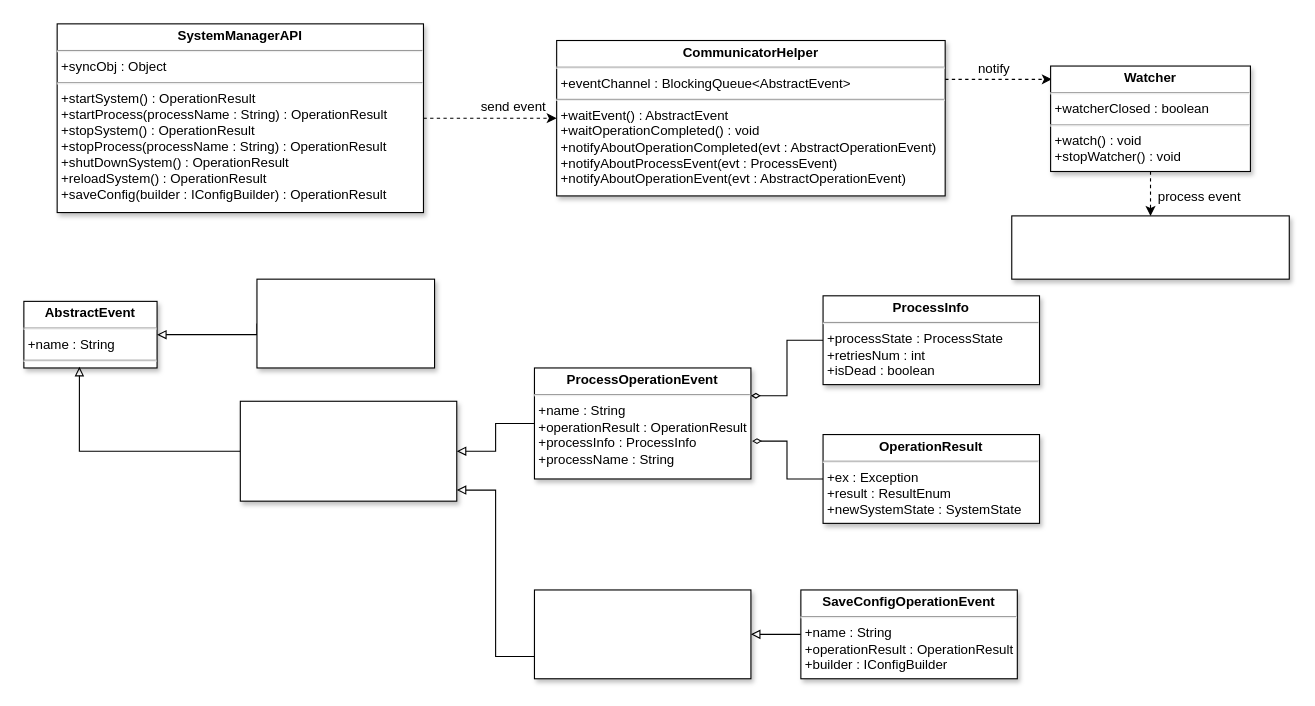
This 1315x706 diagram has some shape labels left out. The shapes that lost their labels are listed below. From the top down, each one's centre as x and y in pixels, then its label:
point (1151, 248): Executor +execute(evt : AbstractOperationEvent) : void
point (346, 325): ProcessEvent +name : String +processName : String +processInfo : ProcessInfo
point (349, 452): AbstractOperationEvent +name : String +operationResult : OperationResult
point (643, 635): SystemOperationEvent +name : String +operationResult : OperationResult
